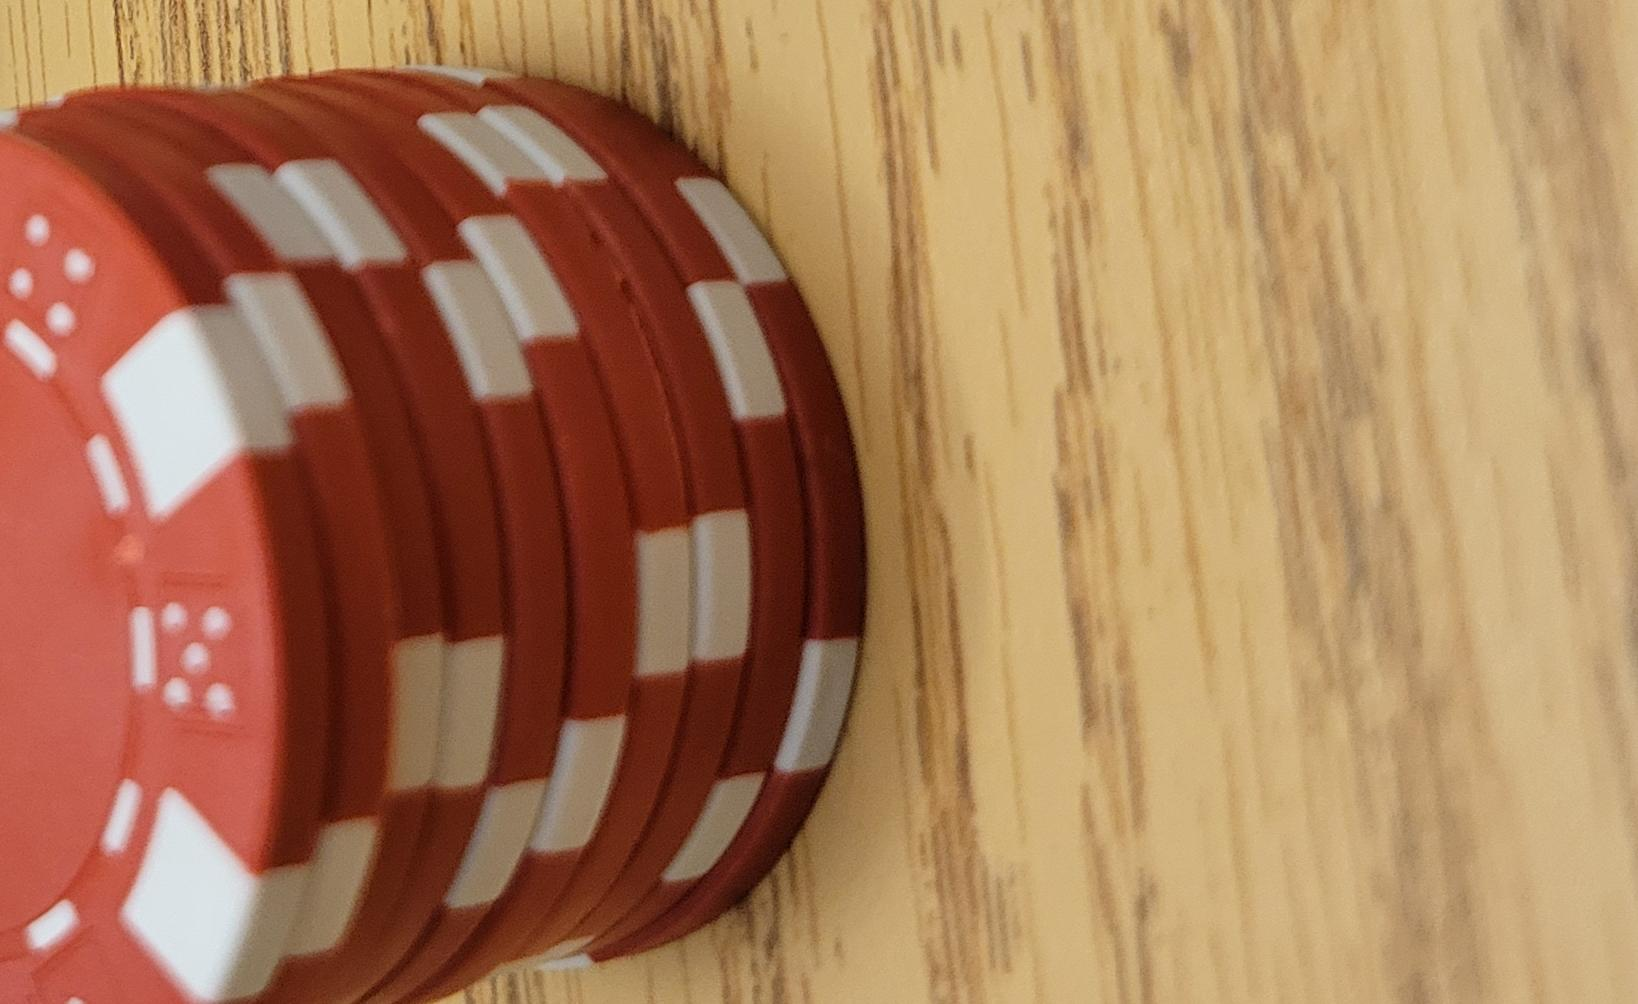Chip: (1, 525, 691, 1004)
